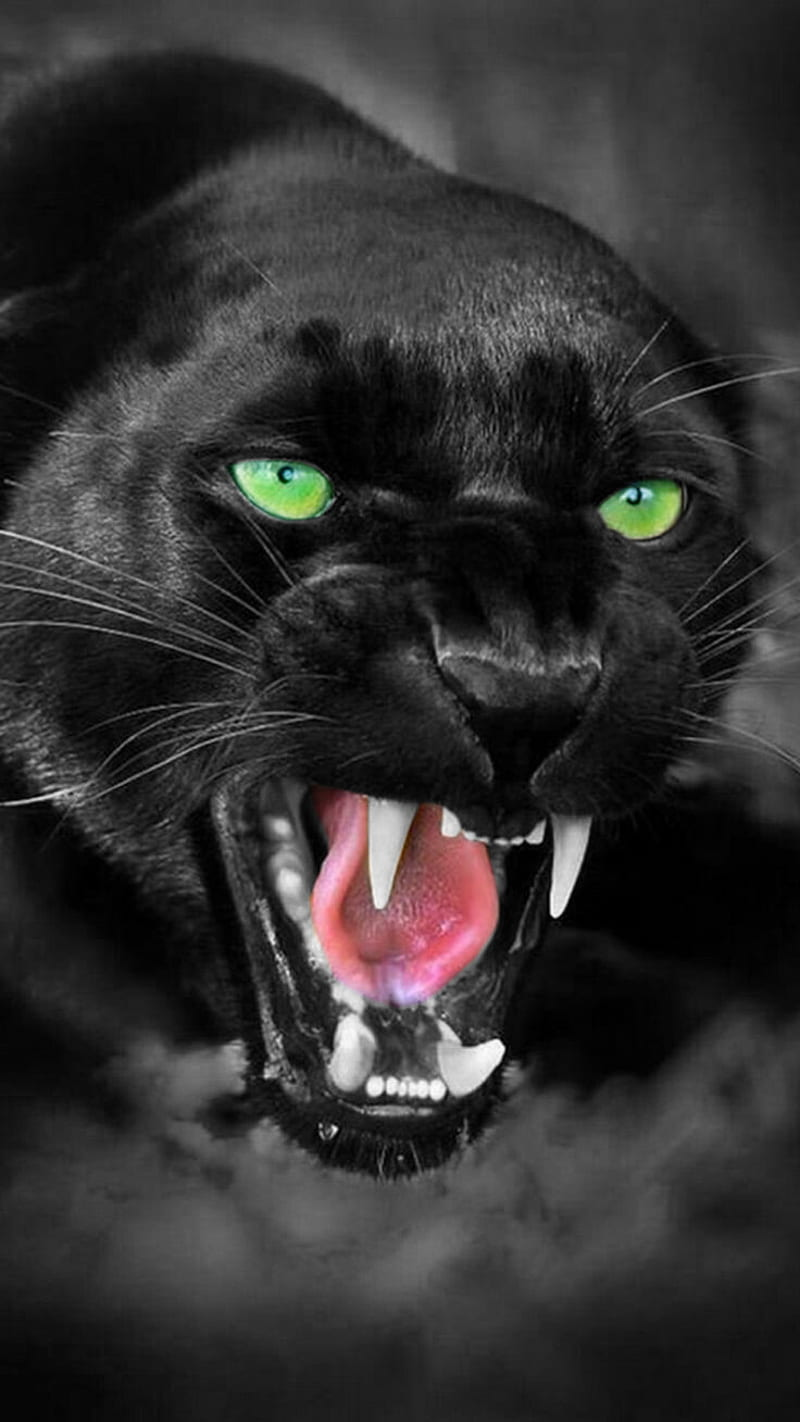panther: (28, 230, 771, 1227)
